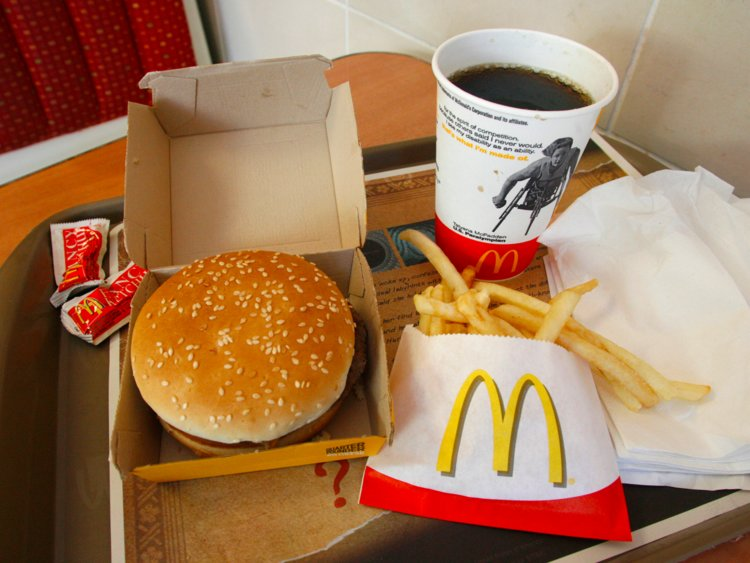mcdonalds: (433, 364, 574, 490)
